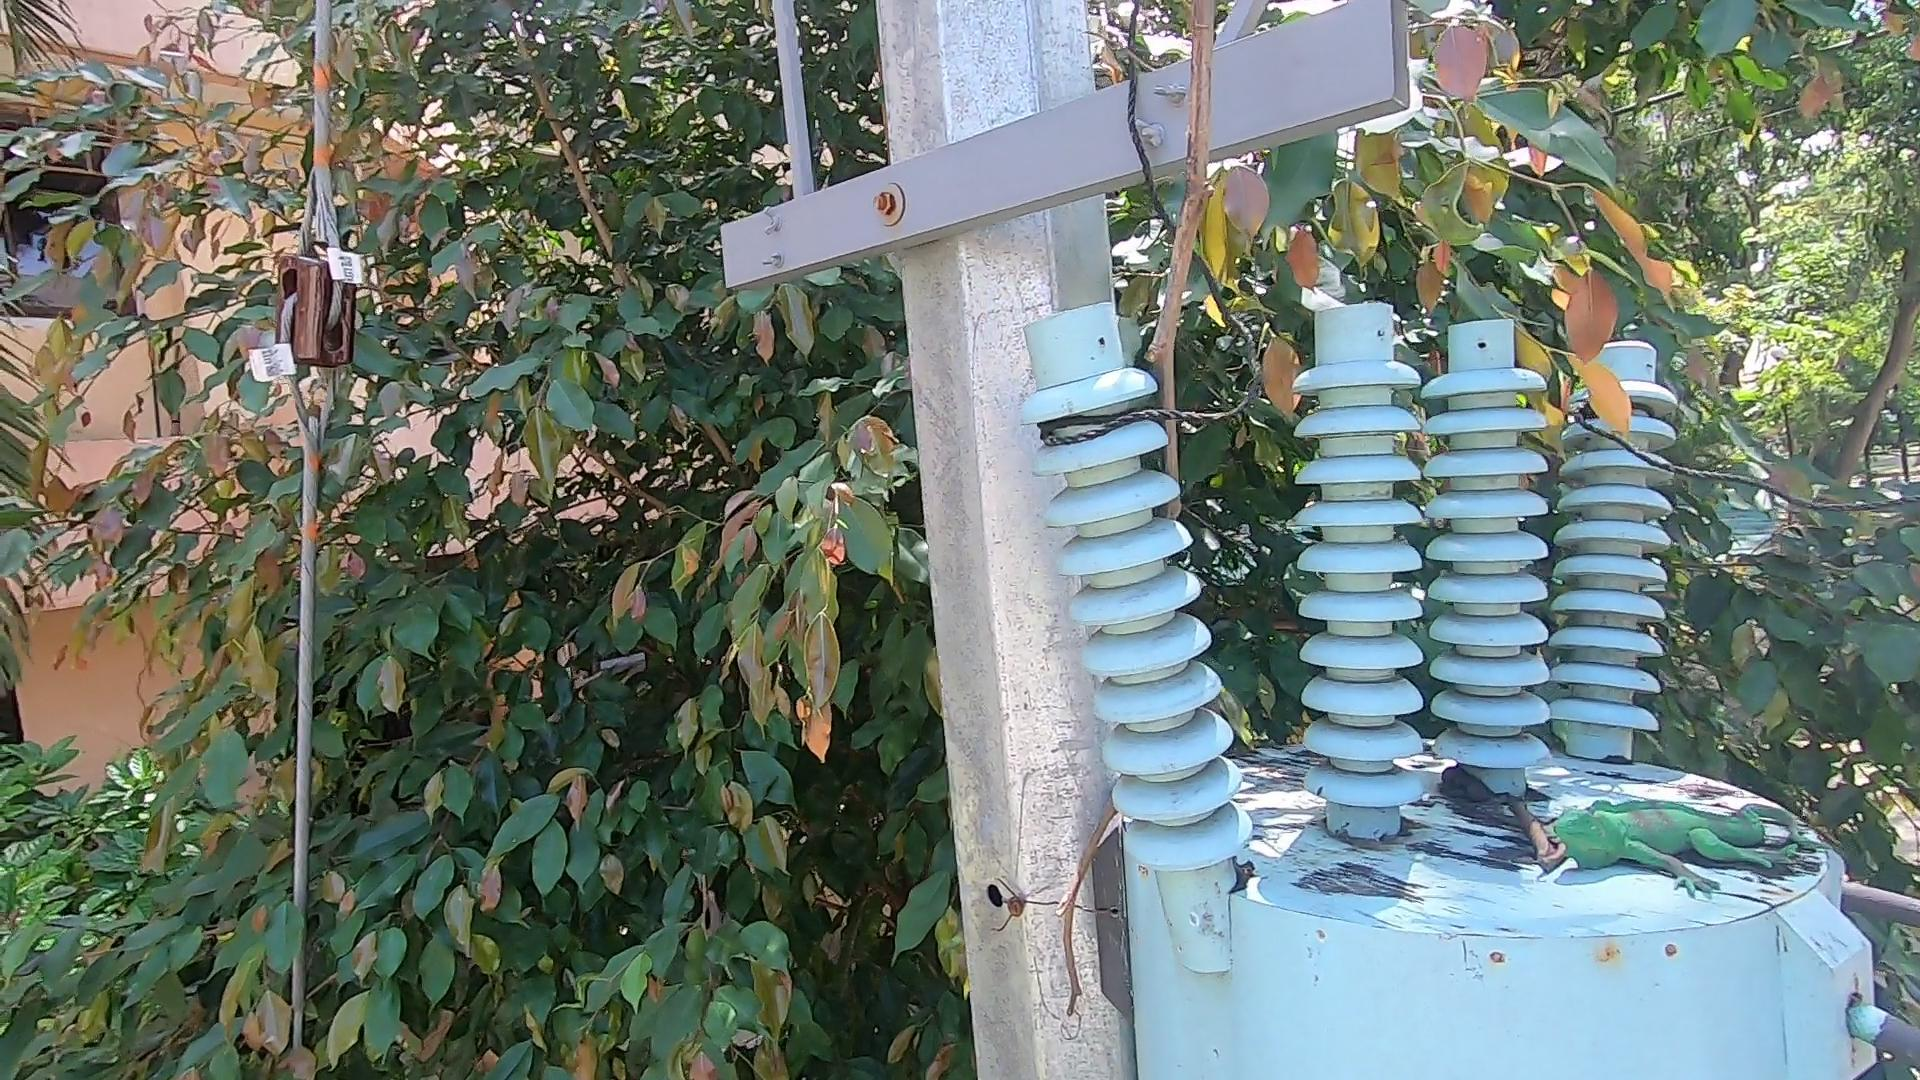branch with leaves: (1485, 310, 1656, 471)
leaf: (1511, 789, 1551, 899), (1443, 769, 1510, 807)
tree branch: (1040, 3, 1267, 1014)
